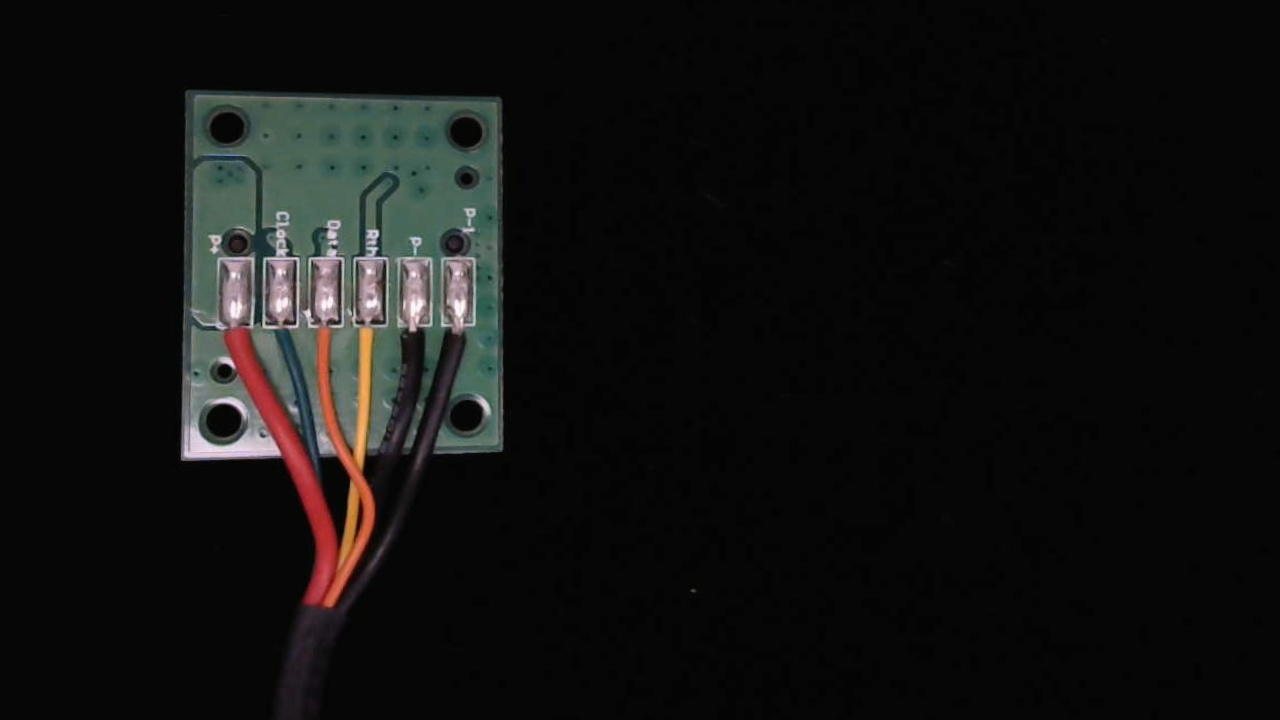Black: (394, 304, 435, 384)
Black1: (442, 303, 481, 377)
Green: (260, 303, 301, 381)
Orange: (305, 304, 344, 383)
Red: (213, 304, 255, 381)
Yellow: (350, 304, 391, 386)
